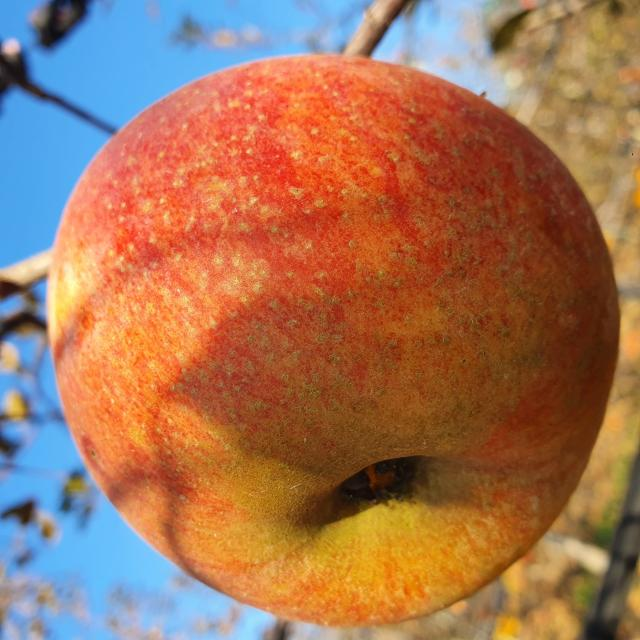fresh: (36, 43, 631, 635)
